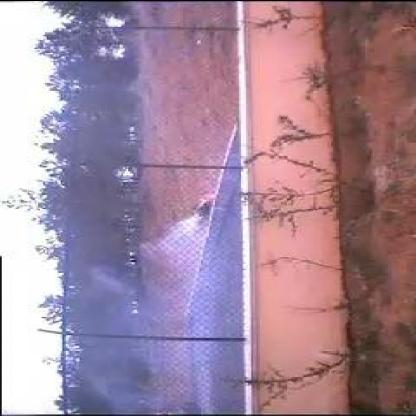-: (80, 196, 242, 399)
